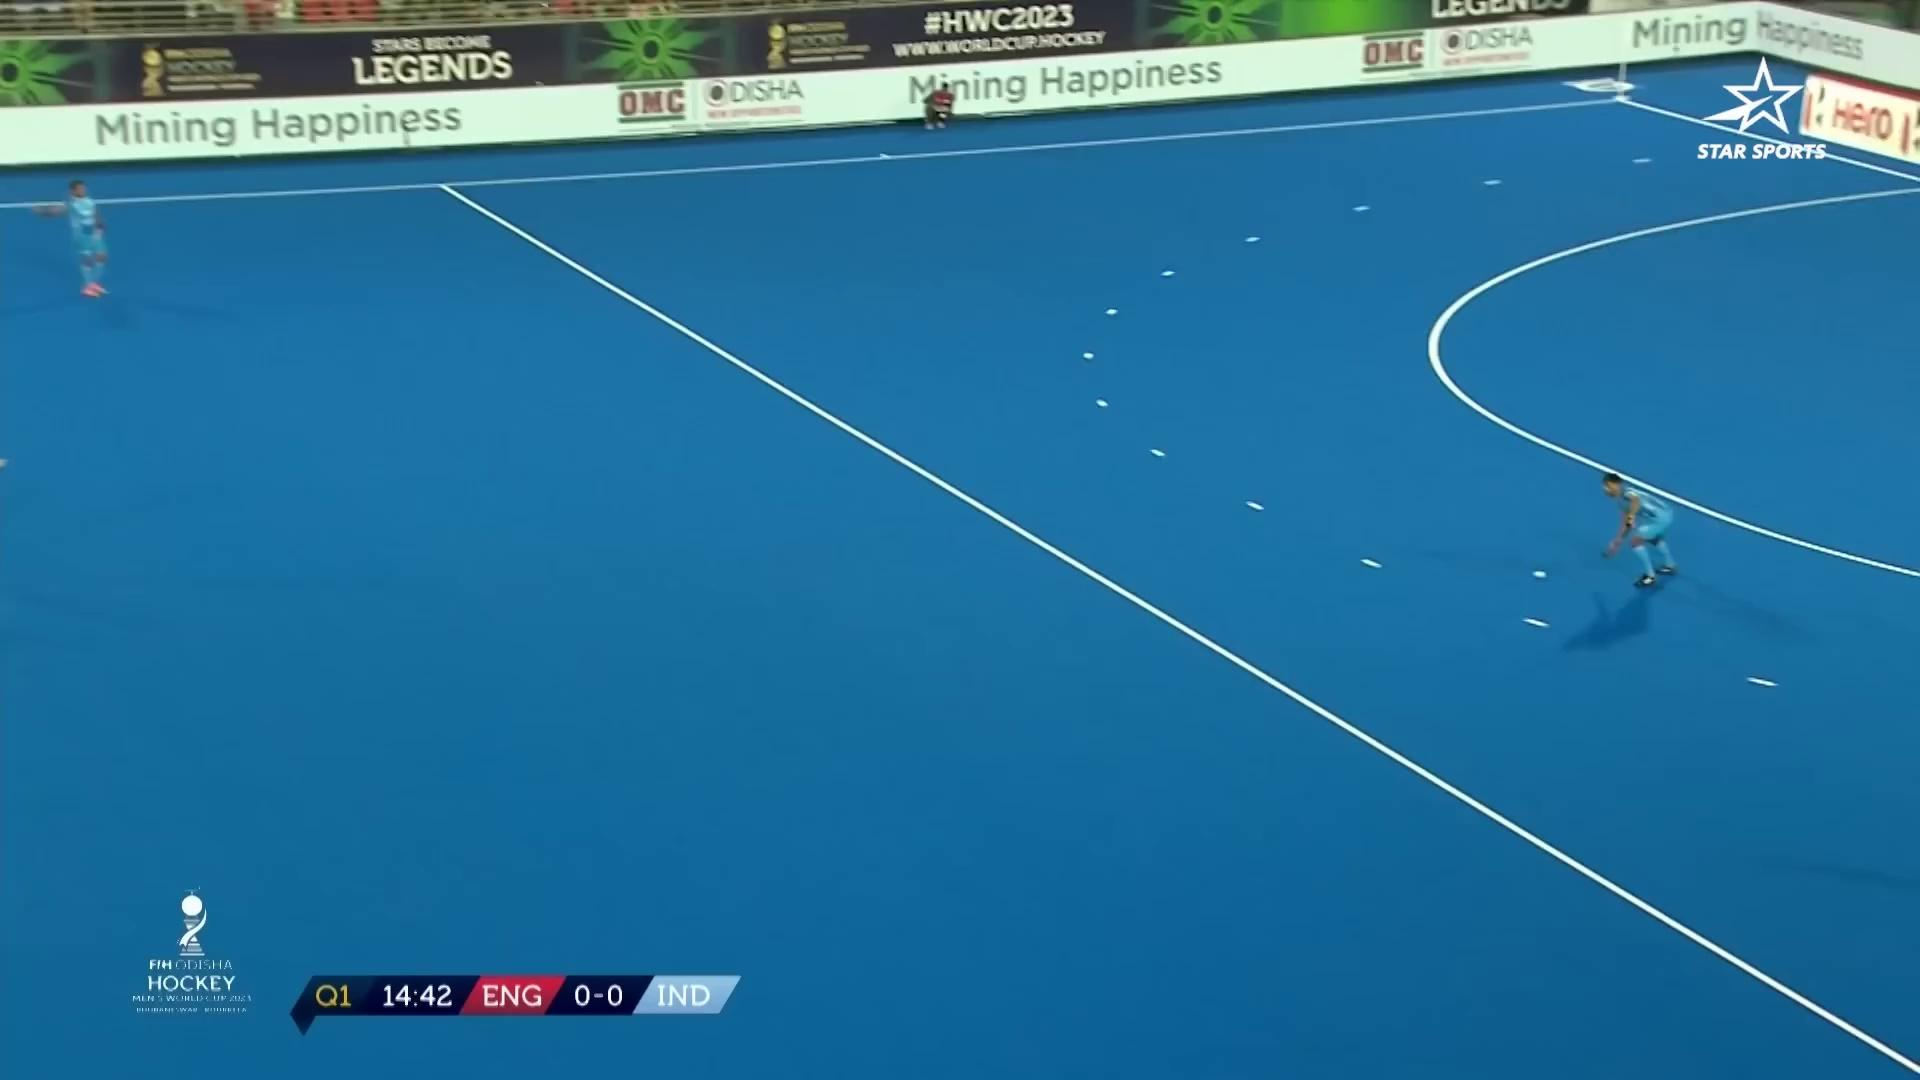ball: (1514, 553, 1565, 603)
